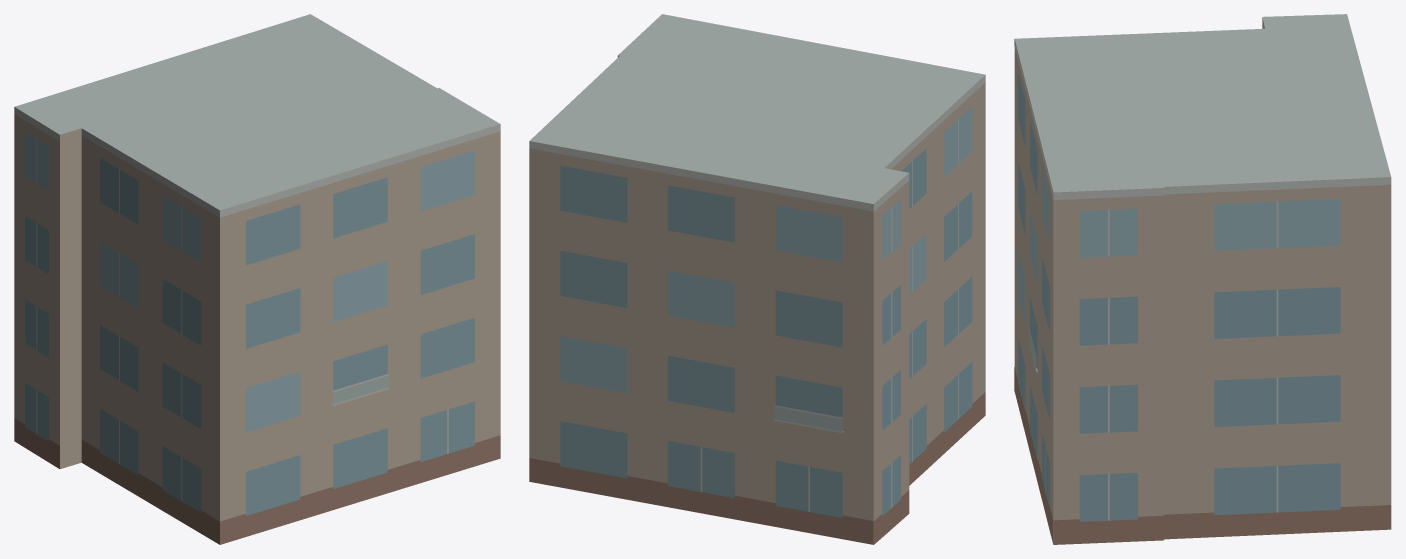
Rendered from survey-upis-33000872.glb.
3 views of the same model, side by side, from view 1: azimuth 30°, elevation 25°; view 2: azimuth 150°, elevation 25°; view 3: azimuth 270°, elevation 25° (orthographic). The views are drawn at different scales.
Visible parts, largest first — view 1: survey-upis-33000872.tmp; view 2: survey-upis-33000872.tmp; view 3: survey-upis-33000872.tmp.
Boxes of the visible parts, bbox=[...] form: survey-upis-33000872.tmp: bbox=[14, 14, 500, 544]; survey-upis-33000872.tmp: bbox=[529, 14, 985, 544]; survey-upis-33000872.tmp: bbox=[1014, 14, 1391, 544].
Bounding box in the file's own units: 12.28 × 11.3 × 10.96.
